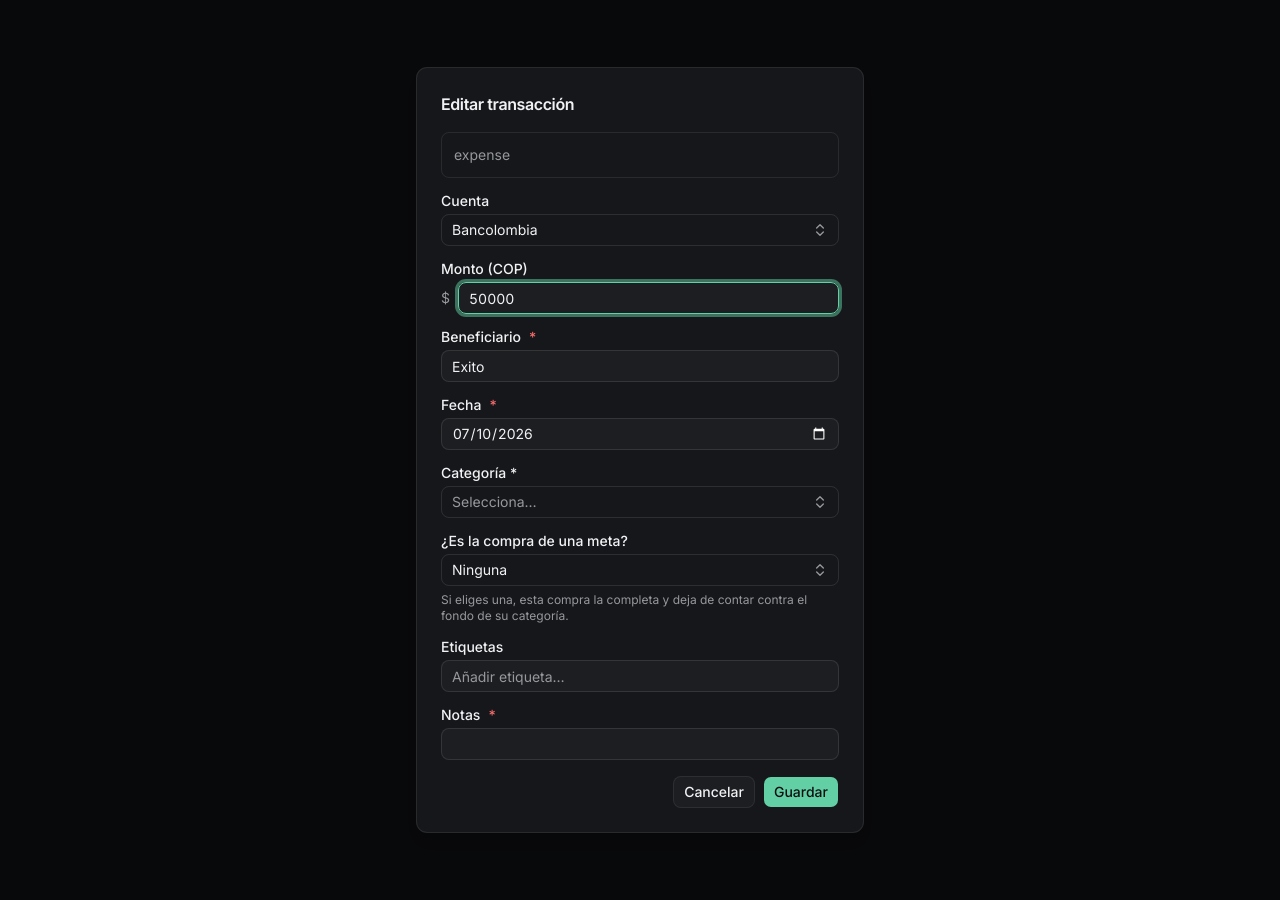
Test: 012 — a movement is corrected, not deleted › The correction dialog shows the Spanish refusal under the Amount field
Replace the text in the field labelled "Monto (COP)" with "0": (648, 298) [458,282,839,314]
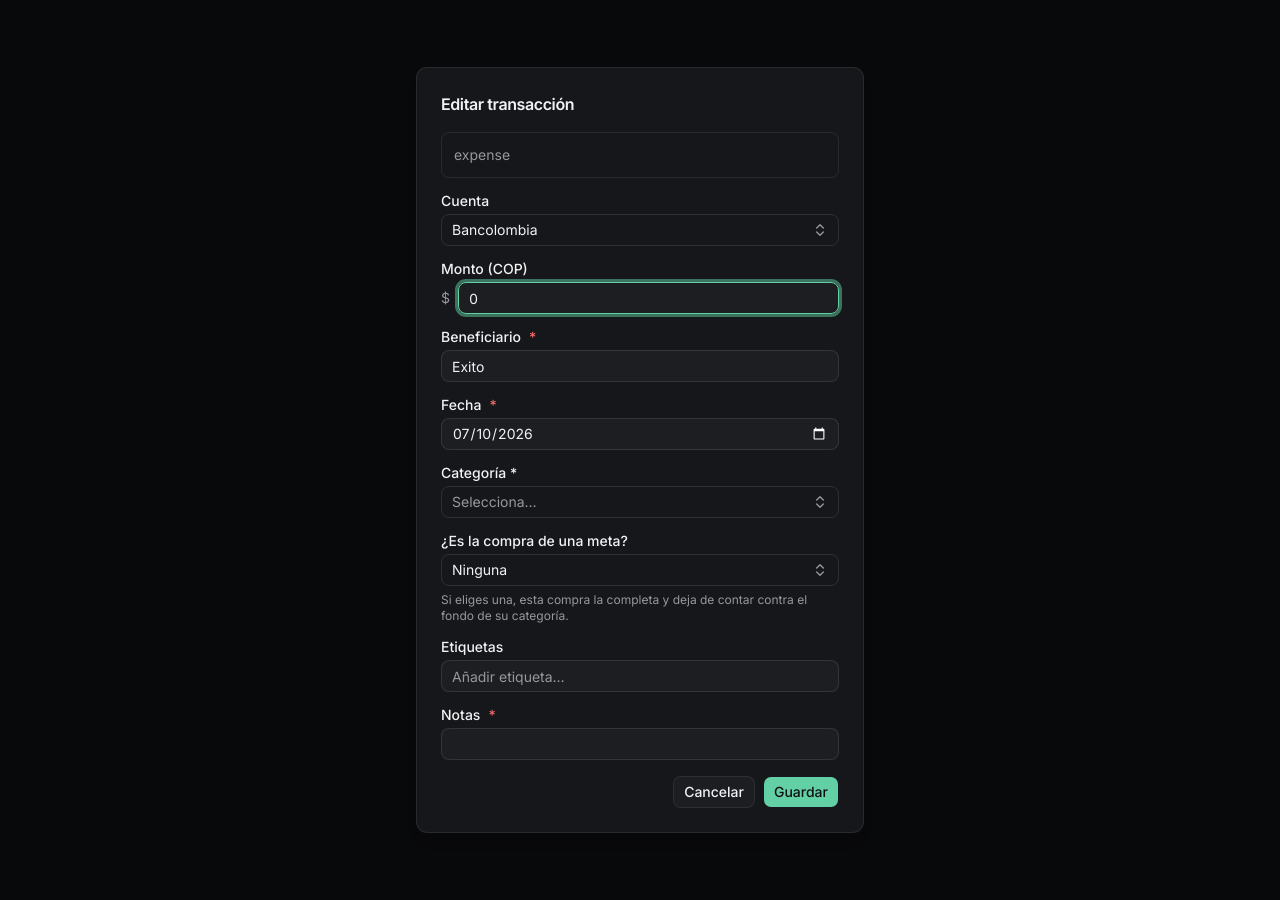
Click the button "Guardar": (801, 792) [763,776,839,808]
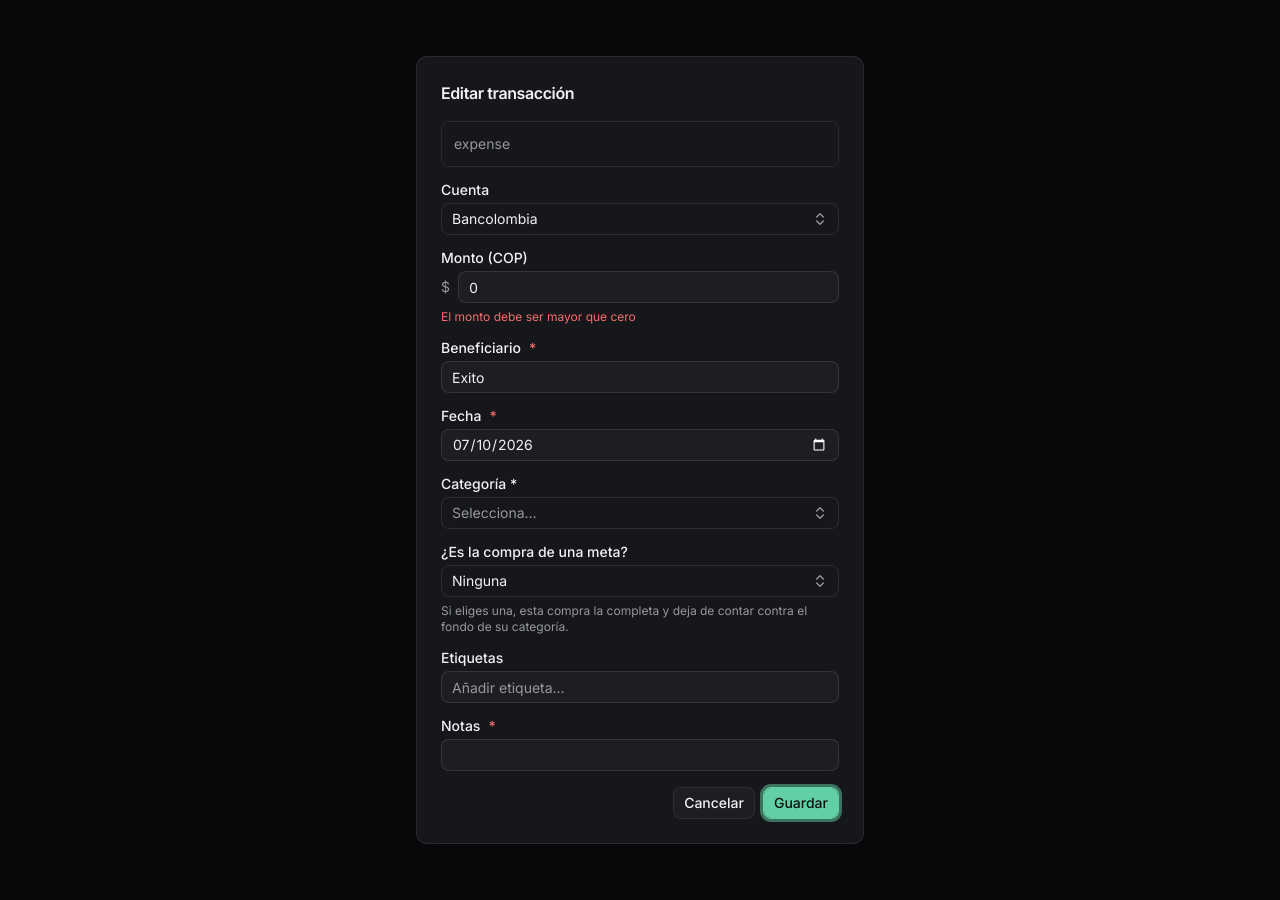
Result: the text "El monto debe ser mayor que cero" is shown at [441,309,636,324]
